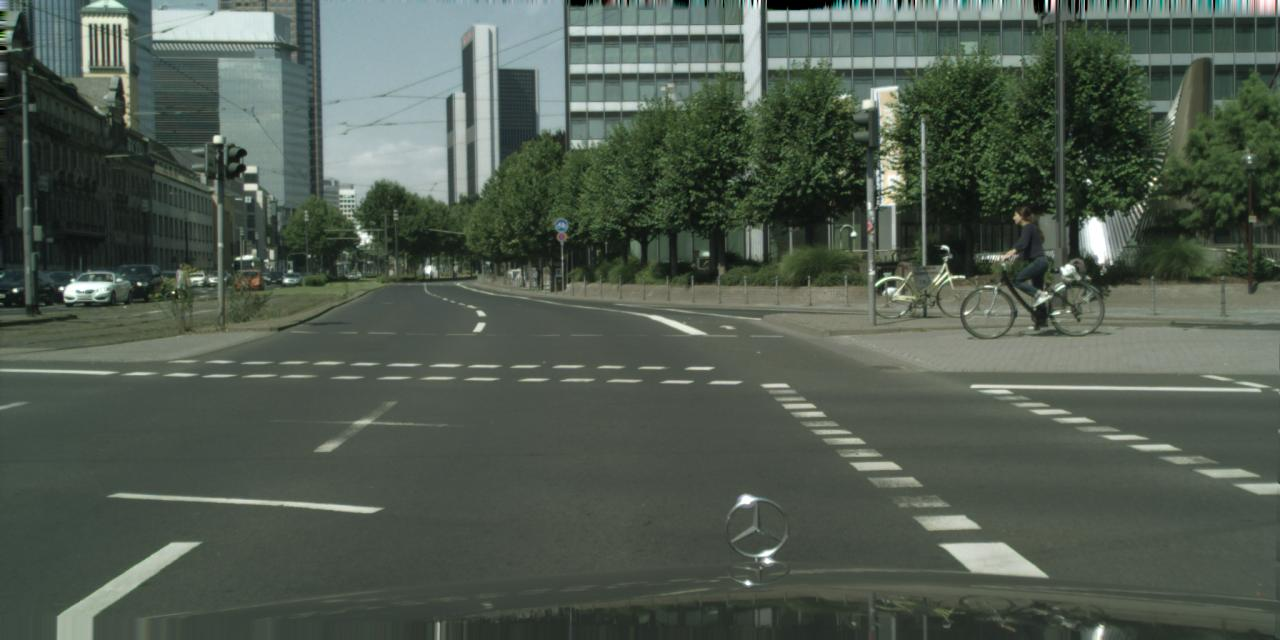ped: (1008, 206, 1053, 318), (174, 263, 188, 299), (532, 265, 542, 289)
